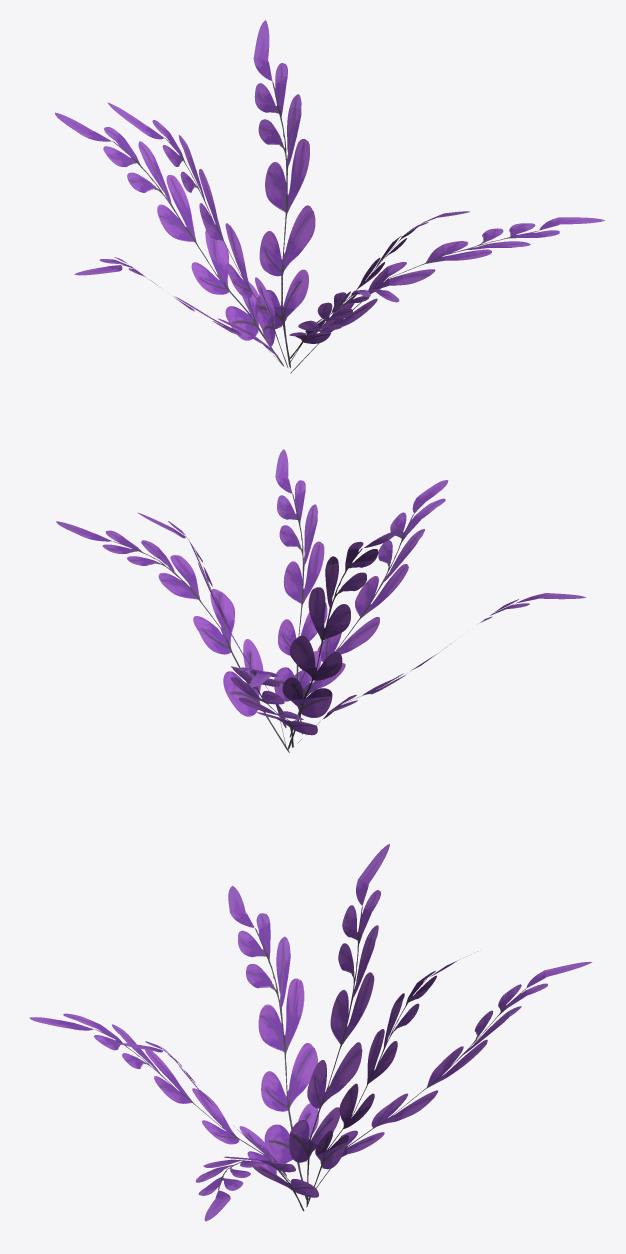
Rendered from Leaflol.glb.
3 renders of one model, top to bottom at view 1: azimuth 30°, elevation 25°; view 2: azimuth 150°, elevation 25°; view 3: azimuth 270°, elevation 25°, orthographic. The views are drawn at different scales.
Visible parts, largest first — view 1: Plane.031; view 2: Plane.031; view 3: Plane.031.
Boxes of the visible parts, left/top/right/bottom form: Plane.031: left=55, top=20, right=604, bottom=373; Plane.031: left=56, top=449, right=585, bottom=752; Plane.031: left=29, top=844, right=592, bottom=1221.
Bounding box in the file's own units: 3.95 × 1.96 × 3.57.
1 material, 1 textured.
